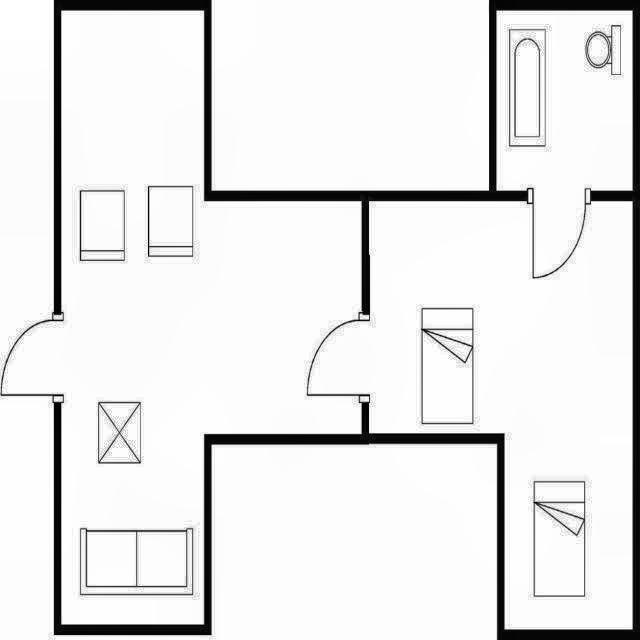room: (61, 10, 361, 625), (369, 201, 633, 629), (496, 10, 632, 190)
